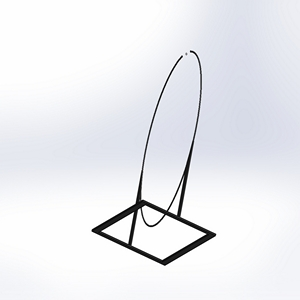circle: (88, 48, 220, 267)
